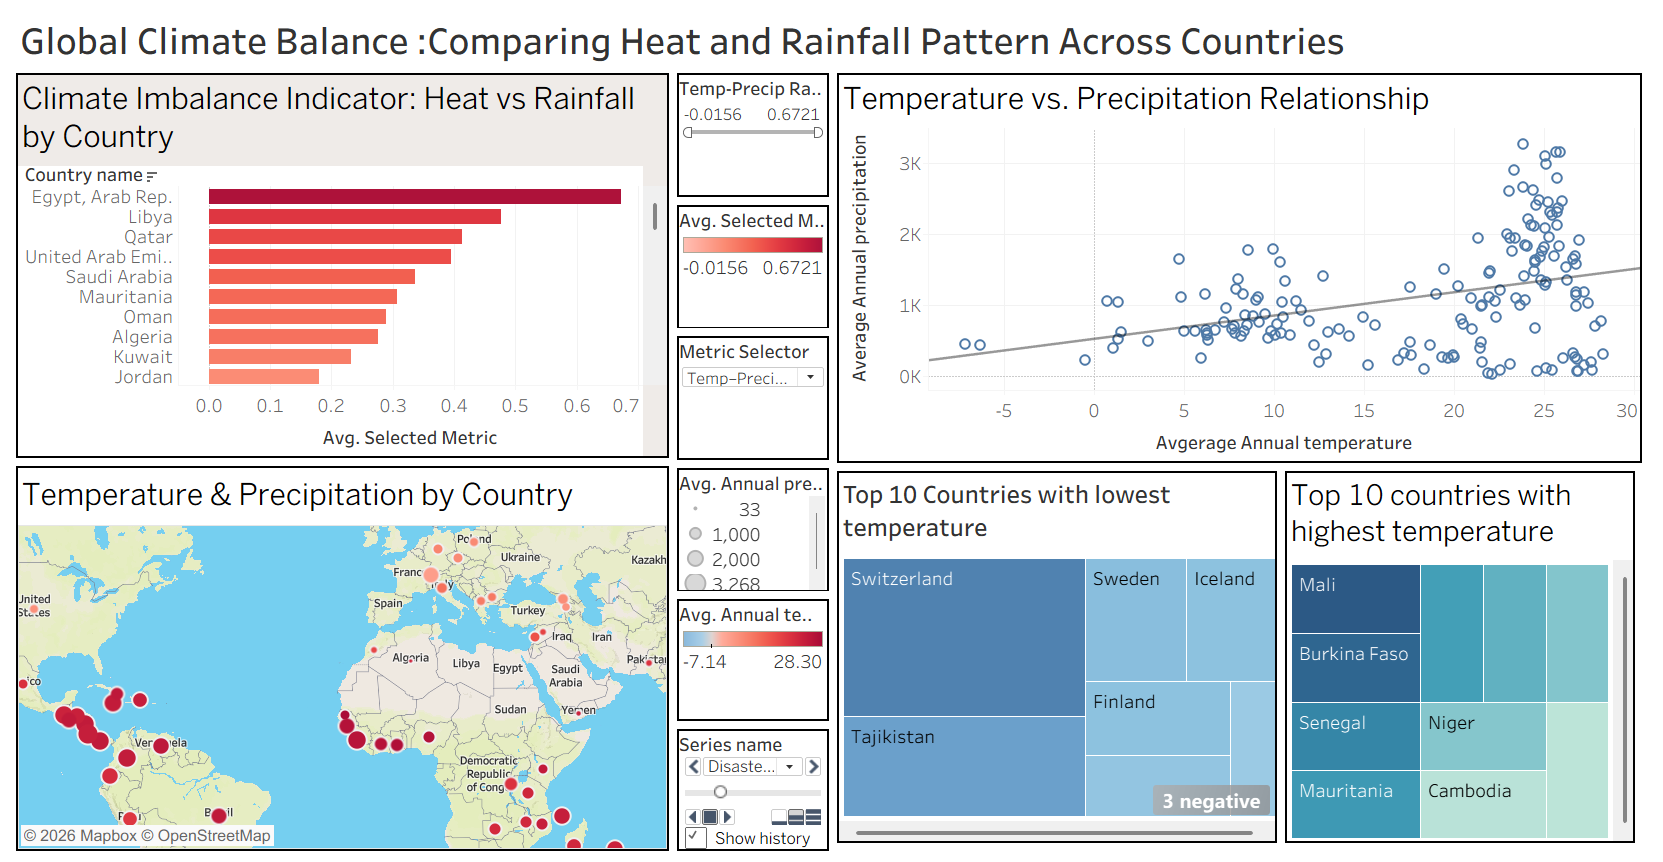

Layout of this report page (visuals, bound fields, positions):
{"tool":"tableau","page":{"name":"Dashboard 2","canvas":[1000,1000],"units":"permille","ordinal":0},"visuals":[{"type":"title","box":[4.9,10.2,990.3,62.4]},{"type":"worksheet","title":"chart5","mark":"Automatic","rows":["Country name"],"cols":["Calculation_1834090950925541383"],"box":[4.9,72.6,400.8,458.6]},{"type":"filter","title":"chart5","param":"[federated.13tldov0azt9mg11vdeor1pmgnf3].[none:Calculation_1834090950921310213:q","box":[405.7,72.6,97,153.6]},{"type":"worksheet","title":"chart4","mark":"Automatic","rows":["Annual_precip"],"cols":["Annual_temp"],"box":[502.7,72.6,492.5,464]},{"type":"legend","title":"chart5","param":"[federated.13tldov0azt9mg11vdeor1pmgnf3].[avg:Calculation_1834090950925541383:qk","box":[405.7,226.2,97,153.6]},{"type":"parameter","param":"[Parameters].[Month selector (copy)]","box":[405.7,379.7,97,153.6]},{"type":"worksheet","title":"chart3","mark":"Circle","box":[4.9,531.2,400.8,458.6]},{"type":"legend","title":"chart3","param":"[federated.13tldov0azt9mg11vdeor1pmgnf3].[avg:Annual_precip:qk]","box":[405.7,533.3,97,153.6]},{"type":"worksheet","title":"chart2","mark":"Automatic","box":[502.7,536.6,263.4,453.2]},{"type":"worksheet","title":"chart1","mark":"Automatic","box":[766.1,536.6,229.1,453.2]},{"type":"legend","title":"chart3","param":"[federated.13tldov0azt9mg11vdeor1pmgnf3].[avg:Annual_temp:qk]","box":[405.7,686.9,97,151.5]},{"type":"currpage","title":"chart3","box":[405.7,838.3,97,151.5]}]}

Visuals, with their boxes on the dashboard's canvas, which has no fixed pixel size, in thousandths of its width and height (x1, y1, x2, y2). These are canvas units, not pixel positions in the 1663x862 screenshot, which may show the page scaled, cropped or inside an application window:
title: bbox=(5, 10, 995, 73)
"chart5" worksheet: bbox=(5, 73, 406, 531)
"chart5" filter: bbox=(406, 73, 503, 226)
"chart4" worksheet: bbox=(503, 73, 995, 537)
"chart5" legend: bbox=(406, 226, 503, 380)
parameter: bbox=(406, 380, 503, 533)
"chart3" worksheet (Circle marks): bbox=(5, 531, 406, 990)
"chart3" legend: bbox=(406, 533, 503, 687)
"chart2" worksheet: bbox=(503, 537, 766, 990)
"chart1" worksheet: bbox=(766, 537, 995, 990)
"chart3" legend: bbox=(406, 687, 503, 838)
"chart3" currpage: bbox=(406, 838, 503, 990)
